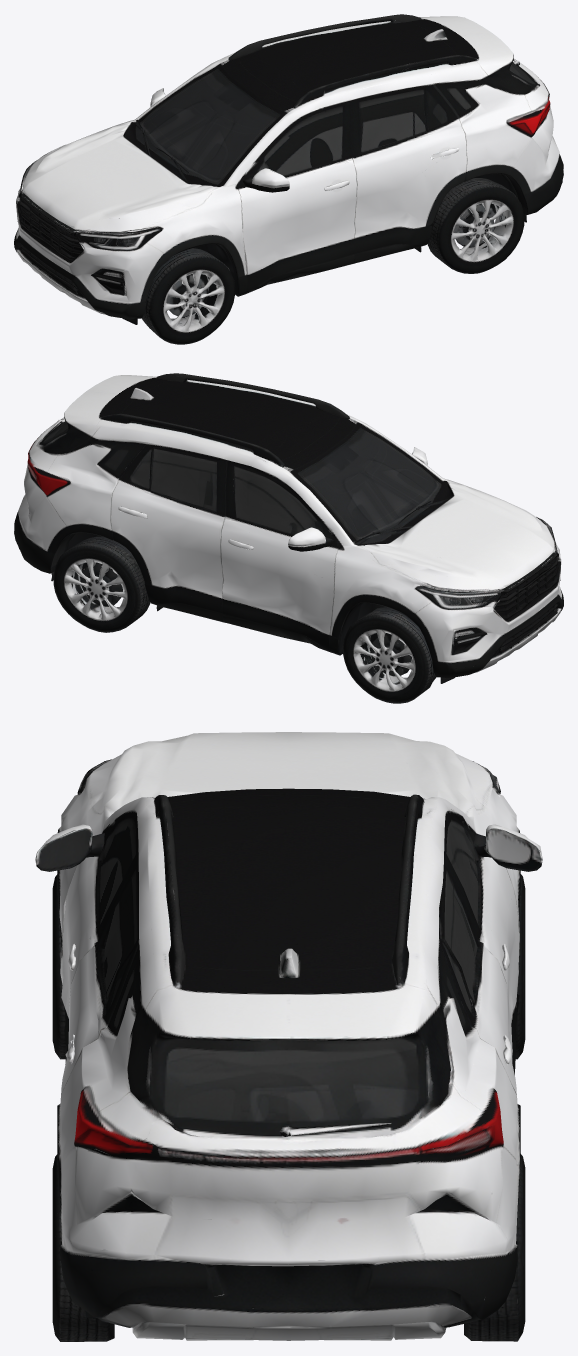
Rendered from jelajah.glb.
The picture shows the model from 3 angles, top to bottom: view 1: azimuth 30°, elevation 25°; view 2: azimuth 150°, elevation 25°; view 3: azimuth 270°, elevation 25°; orthographic projection. The views are drawn at different scales.
Bounding box in the file's own units: 0.9556 × 0.3721 × 0.4272.
1 material, 1 textured.
